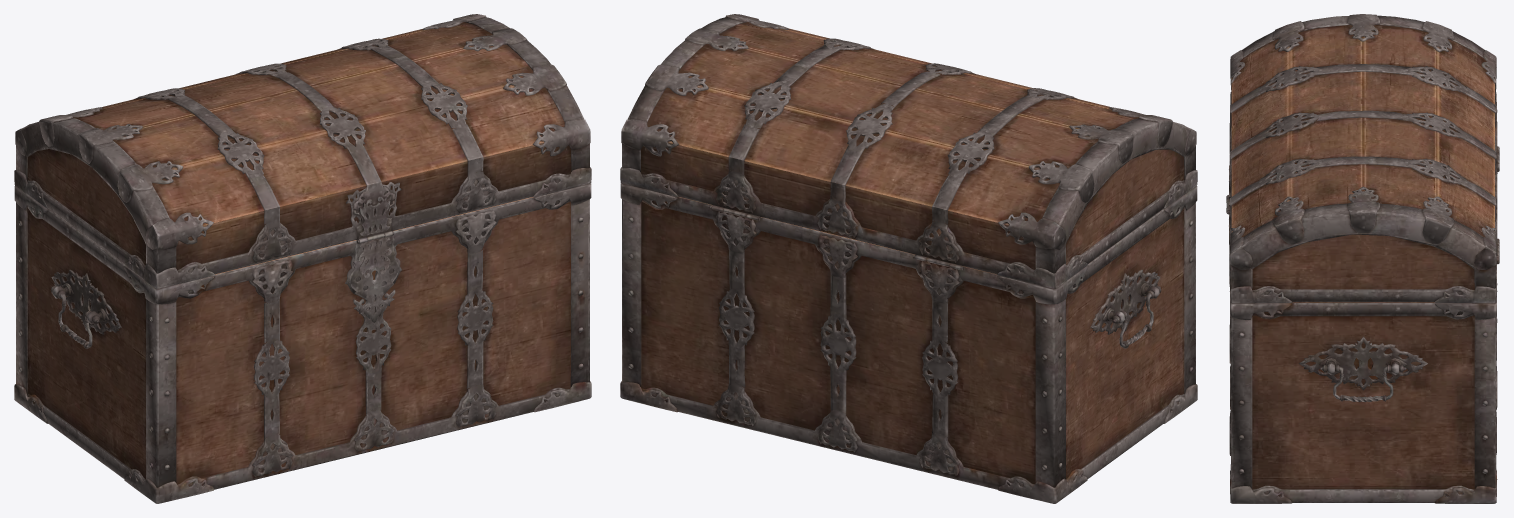
Rendered from sea-chest.glb.
The picture shows the model from 3 angles, left to right: view 1: azimuth 30°, elevation 25°; view 2: azimuth 150°, elevation 25°; view 3: azimuth 270°, elevation 25°; orthographic projection. The views are drawn at different scales.
Visible parts, largest first — view 1: sea-chest; view 2: sea-chest; view 3: sea-chest.
Part boxes in pixels (box(x1,y1,x2,y2)): sea-chest: box(14, 14, 591, 503); sea-chest: box(620, 14, 1197, 503); sea-chest: box(1226, 14, 1499, 503).
Bounding box in the file's own units: 0.959 × 0.619 × 0.5228.
Materials: 1 (1 with a texture image).
